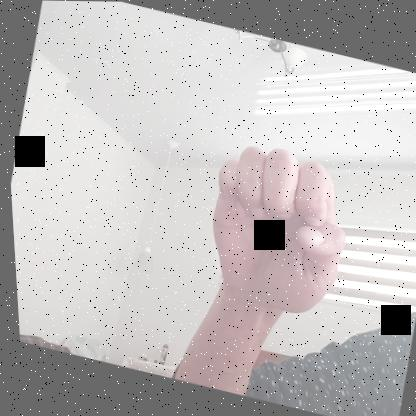E: (186, 132, 366, 324)
